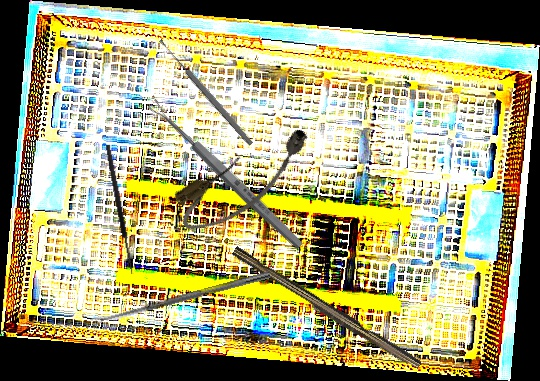Cannula: (167, 118, 325, 243)
Hook Surgical: (104, 143, 142, 275)
Scalpel Handle: (228, 246, 424, 373)
Surgical Spoon: (146, 97, 306, 252), (157, 37, 255, 147), (90, 270, 271, 326)
